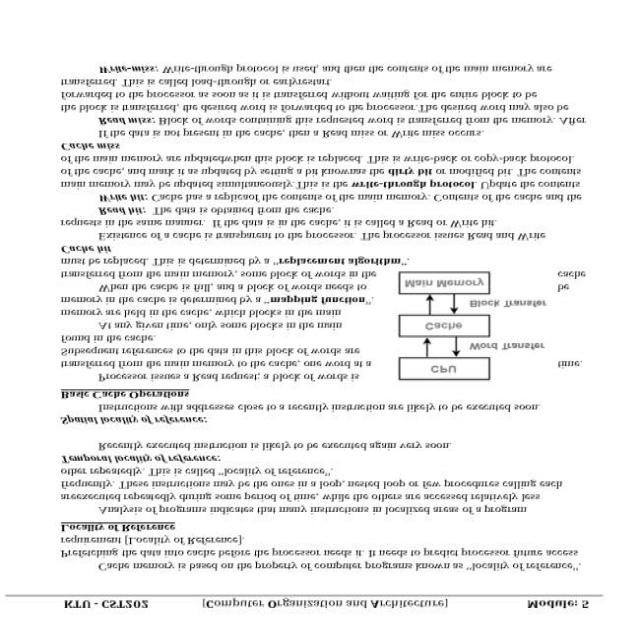Figure Detection - v3 Dataset Version2: (391, 268, 550, 389)
